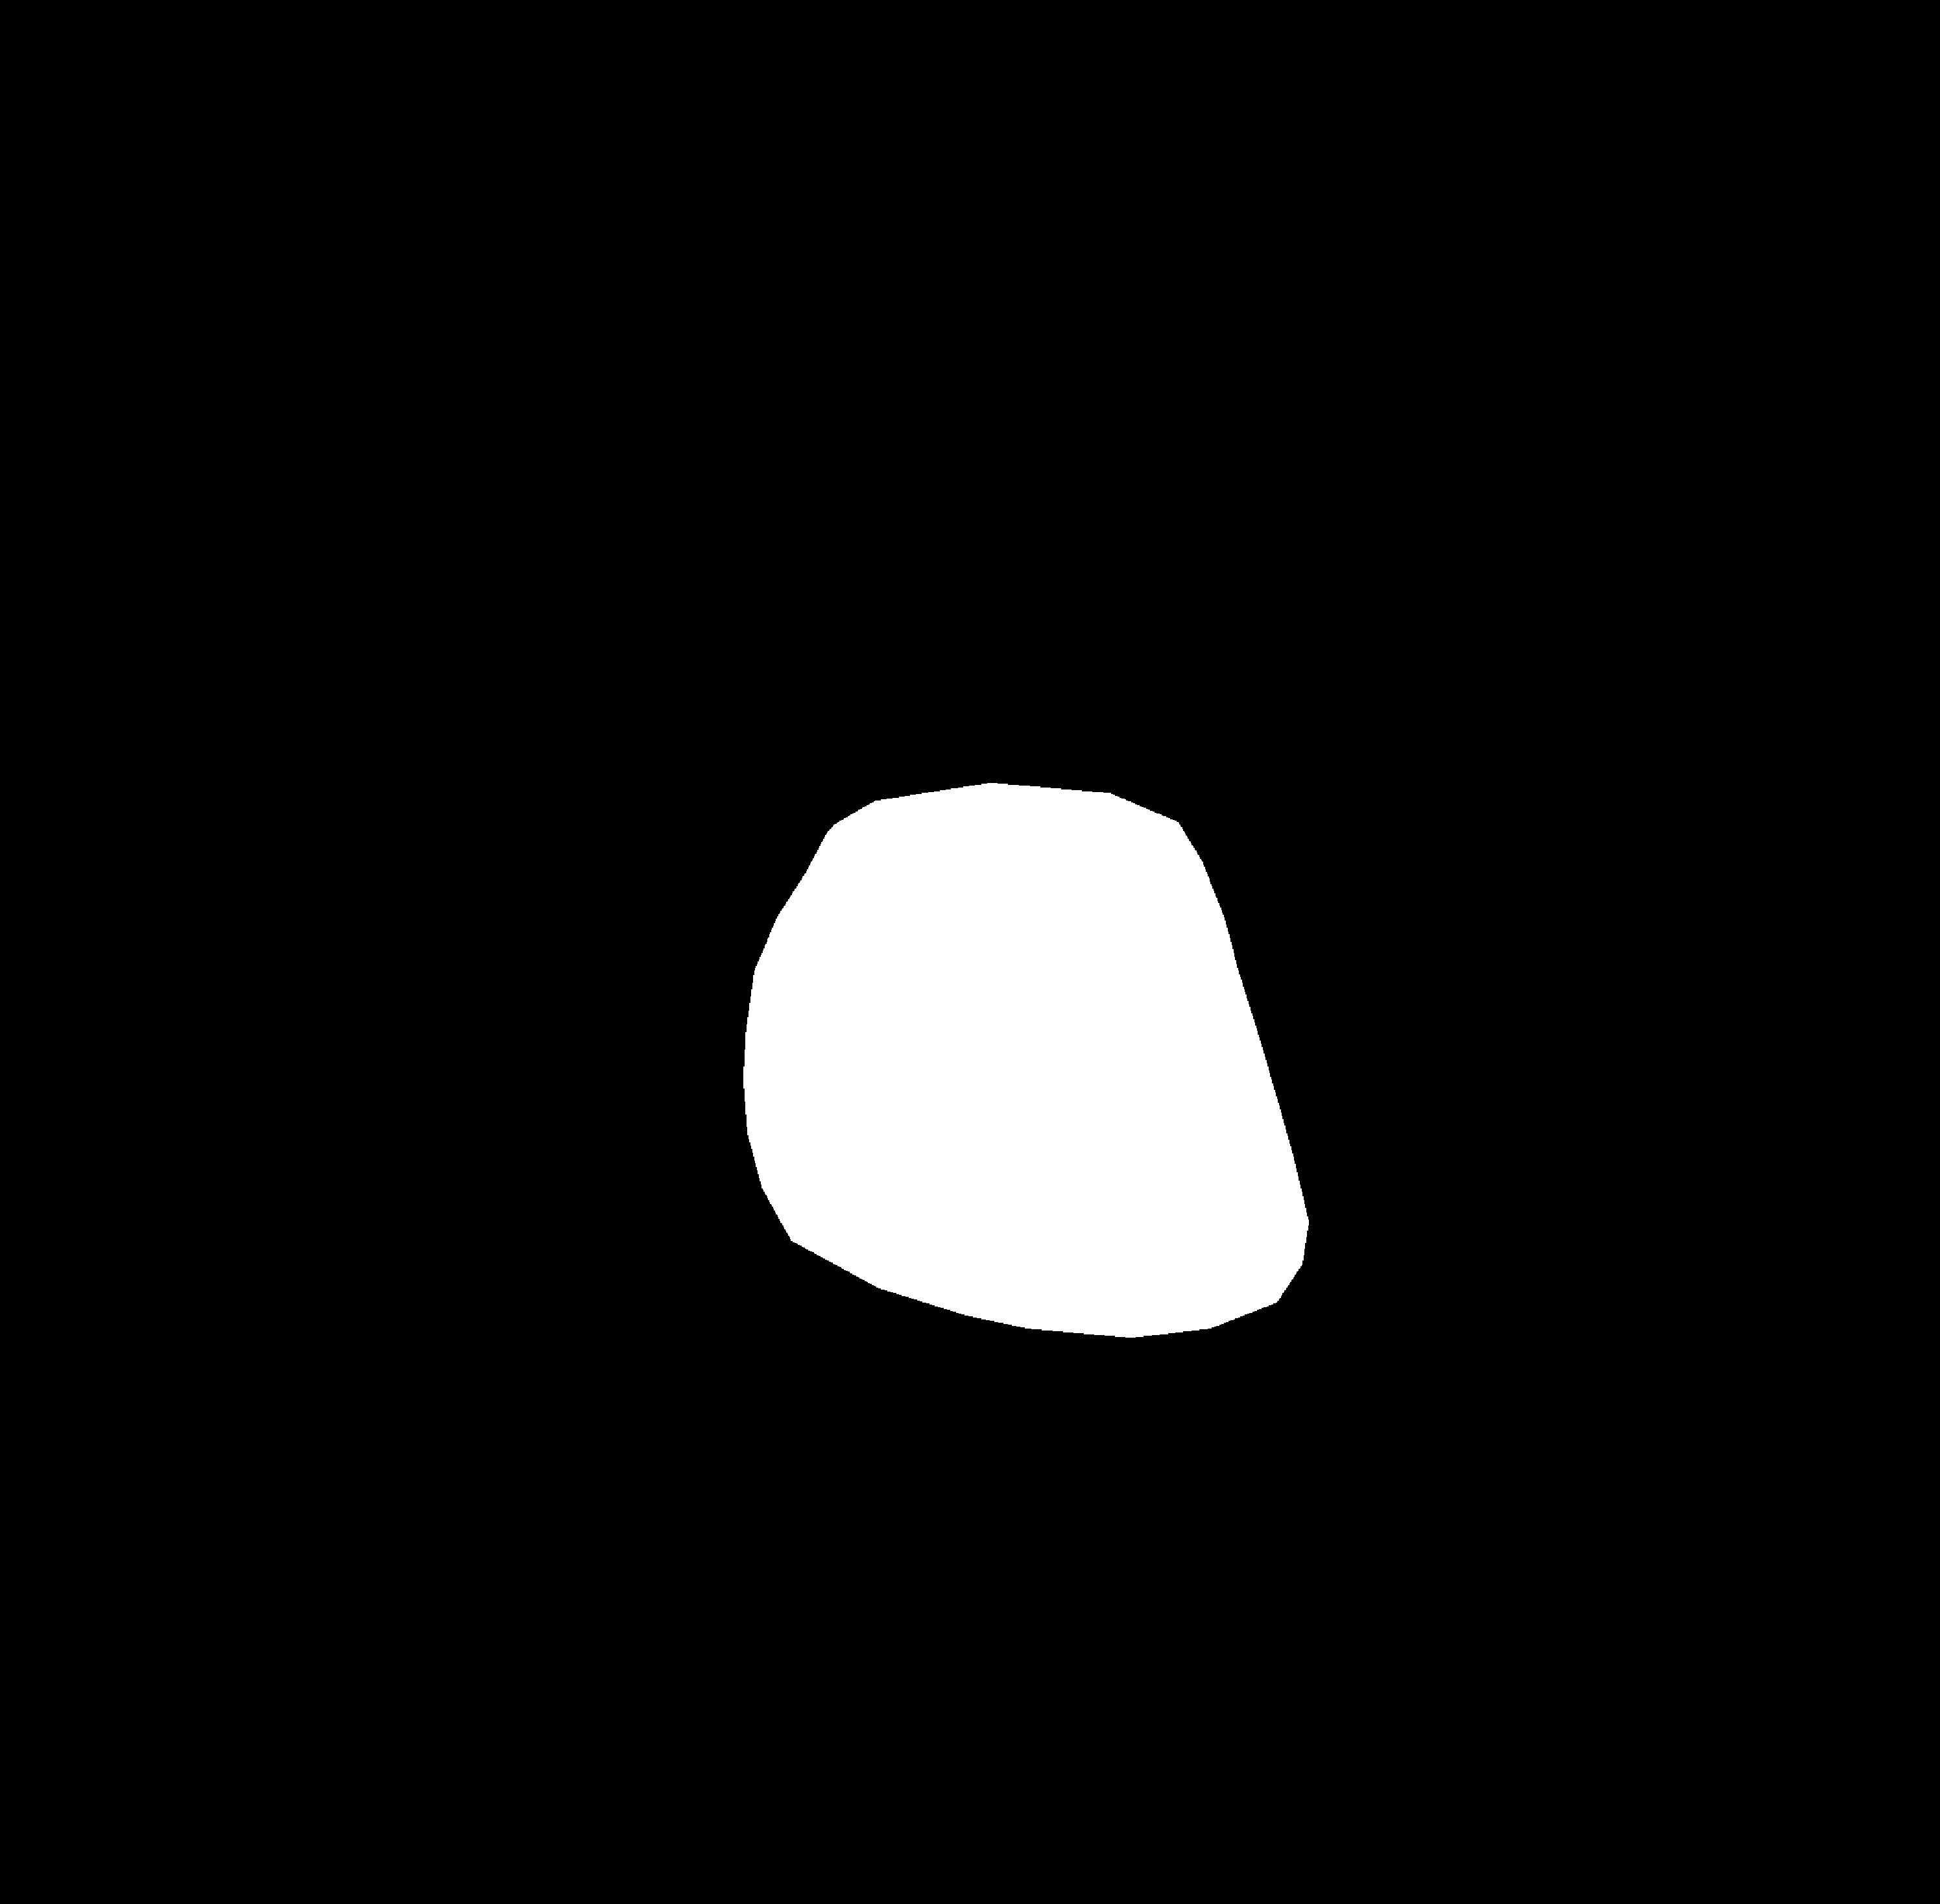heart: (708, 842, 1306, 1350)
left_lung: (289, 213, 873, 1447)
right_lung: (997, 202, 1602, 1513)
